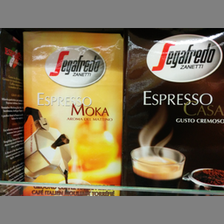coffee: (122, 29, 224, 196), (22, 30, 122, 196)
